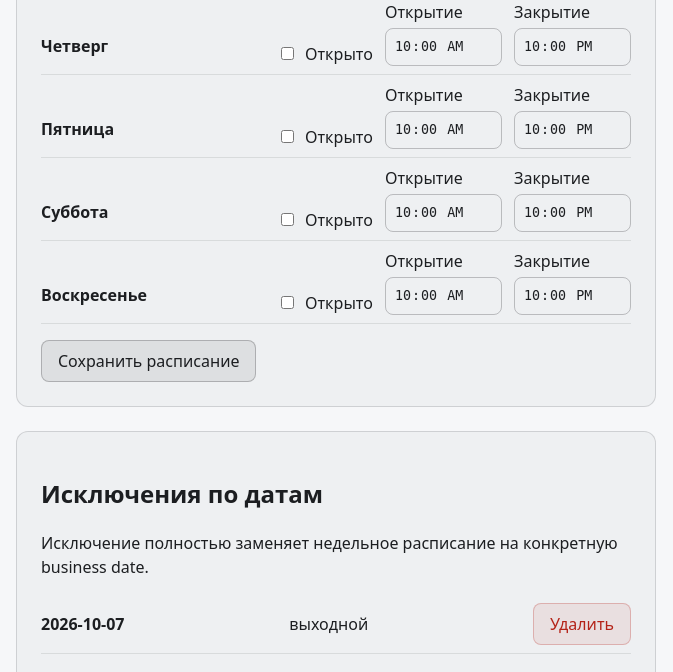
Scenario: SchedulePage › shows a clear message when the schedule has an adjacent-shift overlap
(page scrolled)
Click the button "Сохранить расписание": (149, 361) [41,340,256,382]
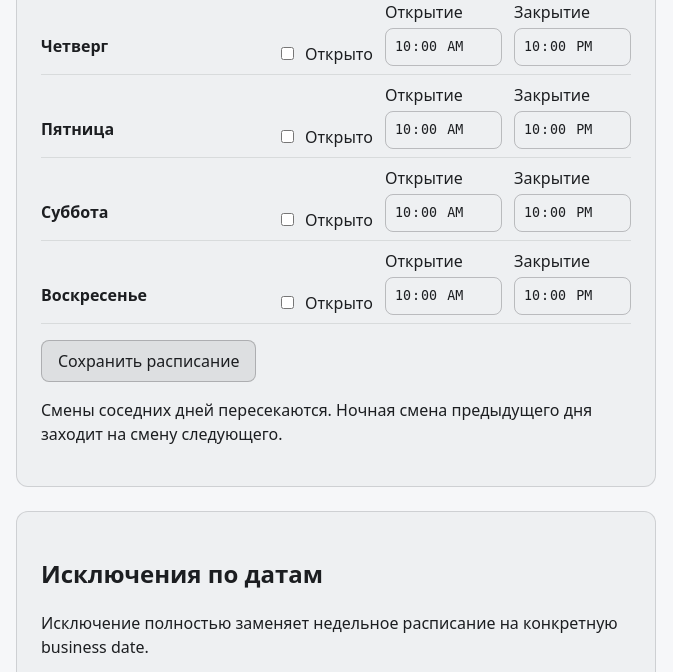
Expected: the message shows "пересекаются", [41,399,592,445]
